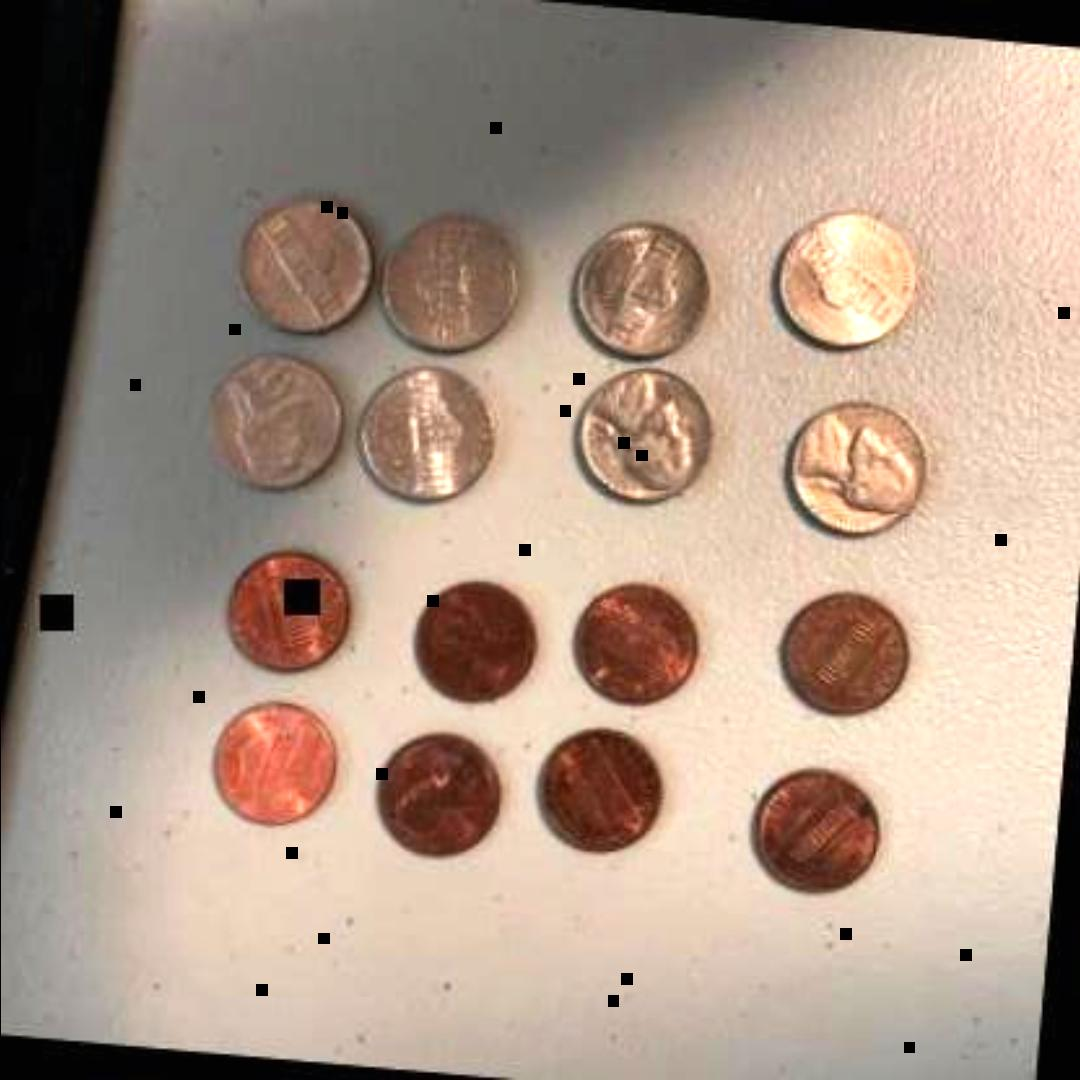Nickel: (780, 390, 934, 544), (772, 198, 926, 352), (349, 354, 502, 508), (199, 340, 352, 494), (370, 206, 523, 359), (231, 194, 378, 344), (572, 357, 718, 507), (569, 214, 719, 360)
Penny: (774, 582, 910, 722), (746, 761, 882, 901), (567, 571, 702, 711), (406, 570, 542, 708), (534, 718, 668, 858), (222, 540, 356, 678), (206, 691, 342, 826), (372, 724, 501, 858)
